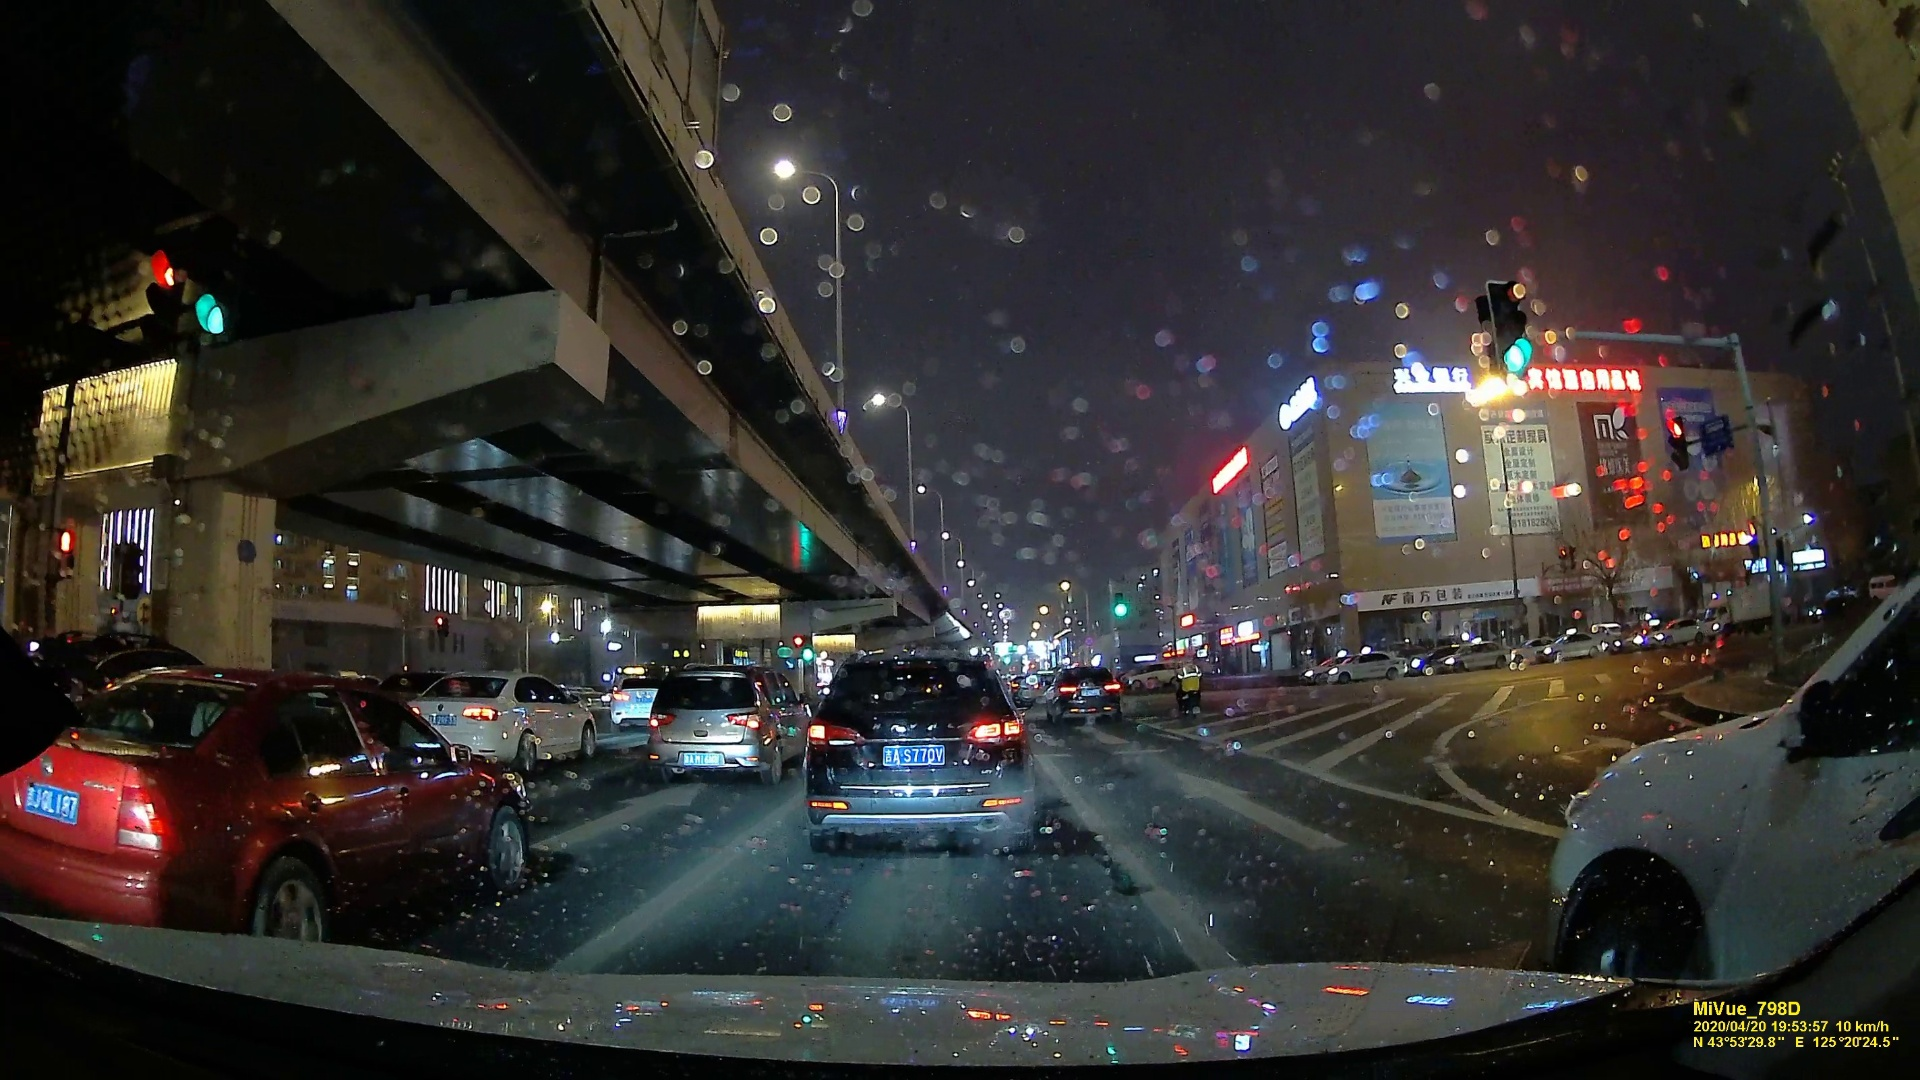person: (1175, 656, 1202, 693)
traffic_sign: (136, 239, 188, 353), (184, 243, 239, 348), (1482, 280, 1537, 381), (1666, 415, 1692, 474), (52, 527, 77, 578), (1113, 591, 1128, 616)
vehicle: (271, 675, 527, 920), (802, 643, 1029, 848), (650, 660, 807, 783), (412, 673, 596, 767), (1047, 665, 1121, 724), (1326, 651, 1410, 682), (1535, 629, 1600, 663)
